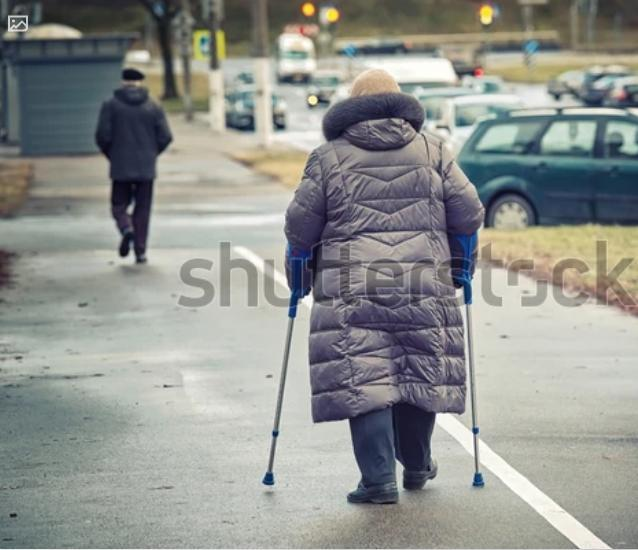crutches: (262, 73, 487, 502)
